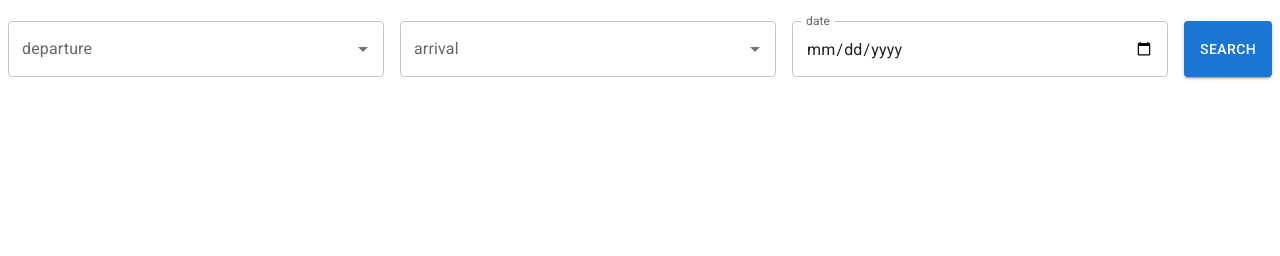
Test: SearchForm (Vitest) › 3. Arrival Autocomplete correctly excludes the selected Departure location
Select 'İstanbul – Alibeyköy' as Departure
Click the dropdown labelled "departure". click: [181, 49]
box: [17,30,345,68]
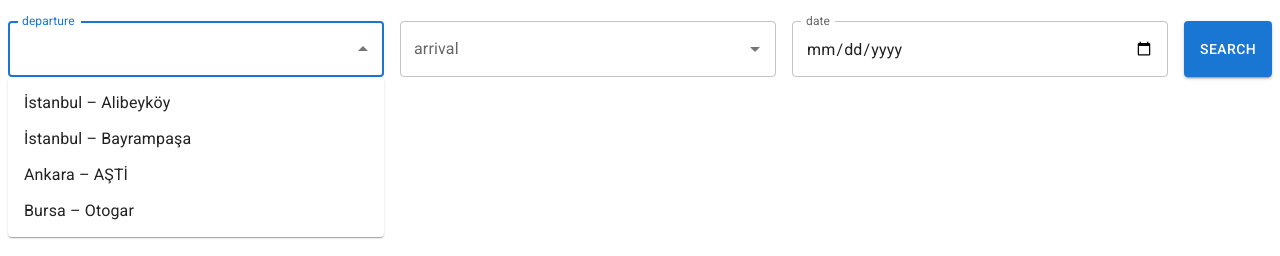
Click the option "İstanbul – Alibeyköy". click: [97, 102]
box: [24,93,170,112]
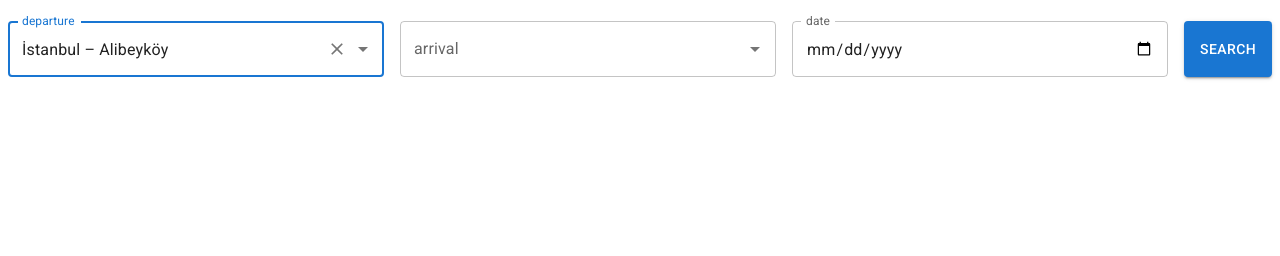
Open Arrival dropdown
Click the dropdown labelled "arrival". click: [573, 49]
box: [409,30,737,68]
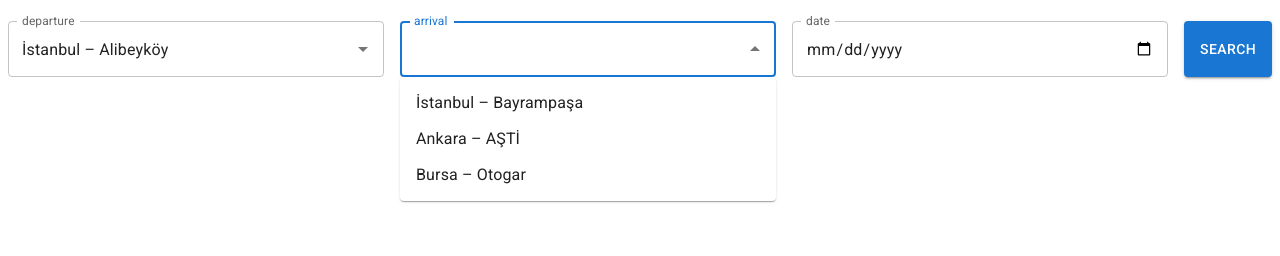
Expected: the option "Ankara – AŞTİ" is shown, [416,129,520,148]
